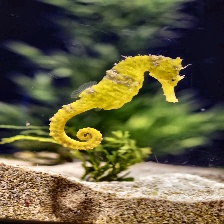seahorse: (48, 55, 210, 153)
